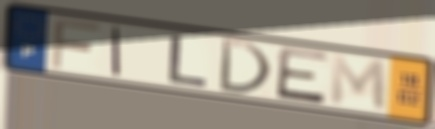D: (216, 36, 274, 97)
E: (273, 45, 332, 106)
F: (49, 16, 103, 71)
I: (110, 24, 124, 79)
L: (166, 32, 212, 89)
M: (329, 52, 390, 114)
